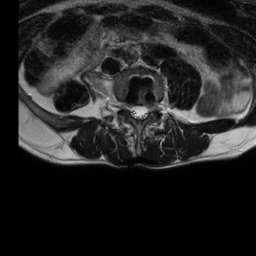CCS_normal: (136, 98, 142, 126)
LFS_normal: (150, 96, 159, 118)
LLS_normal: (142, 99, 149, 120)
RFS_normal: (121, 94, 129, 115)
RLS_normal: (129, 98, 136, 121)
